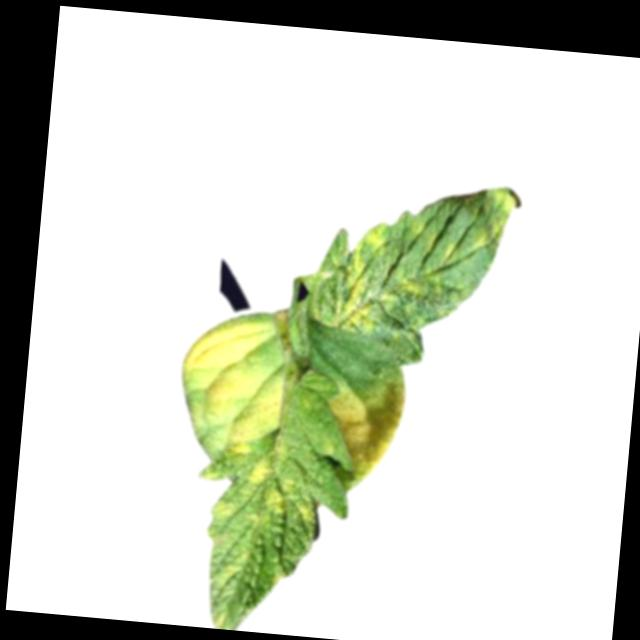Leaf_Mold: (171, 310, 292, 457), (322, 368, 407, 483), (324, 218, 390, 335), (240, 455, 320, 529), (472, 184, 516, 256), (389, 270, 443, 304)
